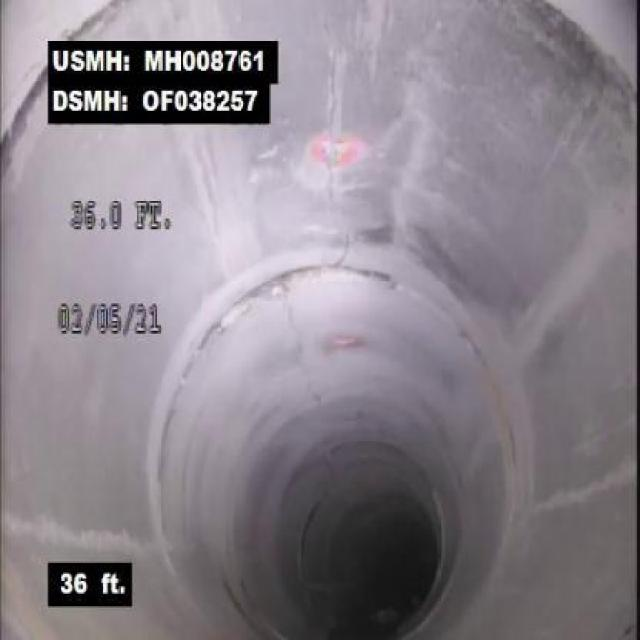Crack: (318, 11, 357, 264), (6, 512, 165, 554), (530, 463, 638, 517)
